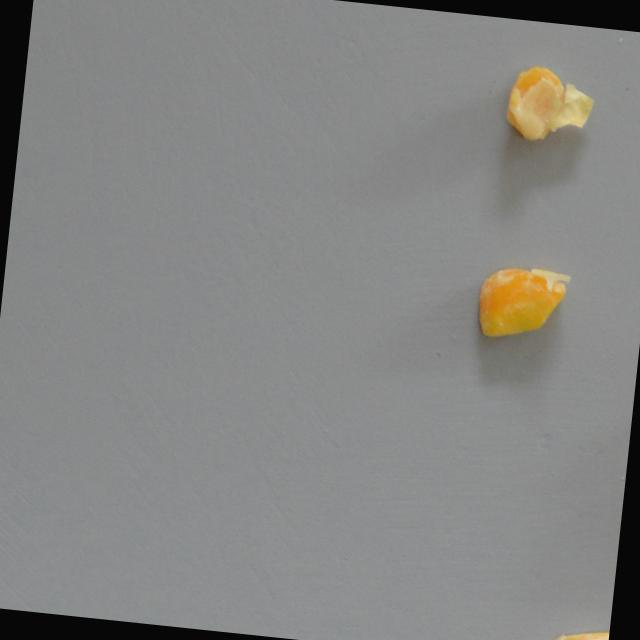pelicula: (487, 51, 620, 163), (457, 246, 590, 358), (541, 620, 609, 640)
